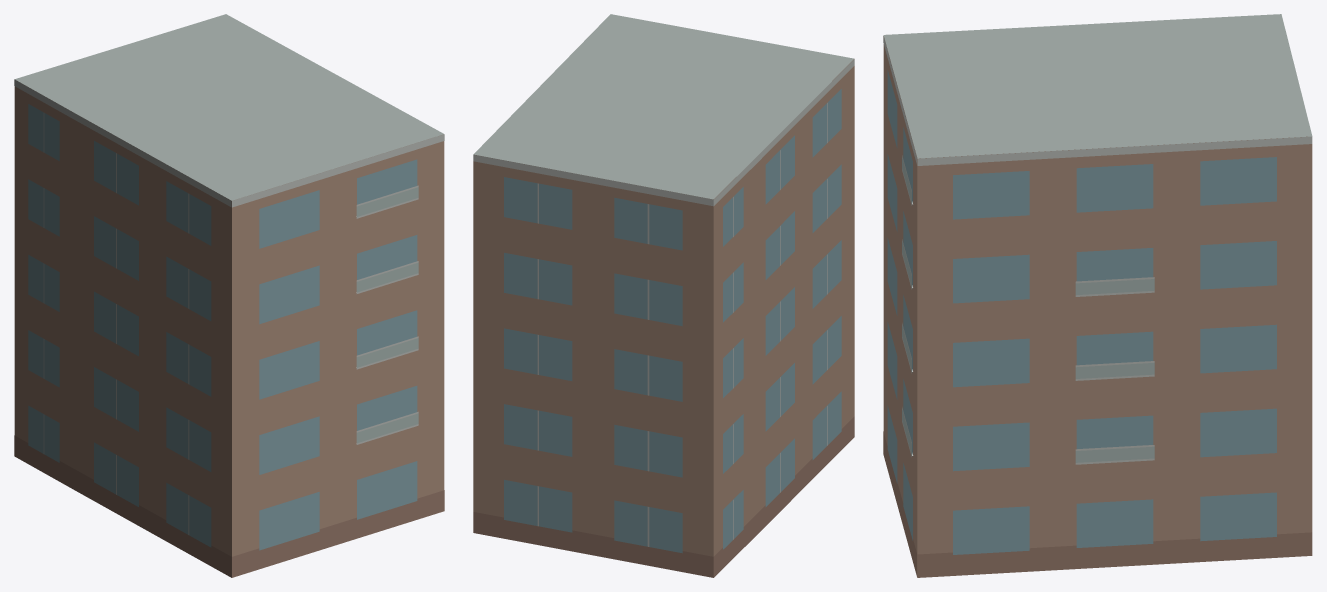
File: survey-upis-32948662.glb
3 views of the same model, side by side, from view 1: azimuth 30°, elevation 25°; view 2: azimuth 150°, elevation 25°; view 3: azimuth 270°, elevation 25° (orthographic). The views are drawn at different scales.
Parts seen in each view (by area): view 1: survey-upis-32948662.tmp; view 2: survey-upis-32948662.tmp; view 3: survey-upis-32948662.tmp.
Part boxes in pixels (bbox=[...]): survey-upis-32948662.tmp: bbox=[14, 14, 444, 577]; survey-upis-32948662.tmp: bbox=[473, 14, 854, 577]; survey-upis-32948662.tmp: bbox=[883, 14, 1312, 577].
Bounding box in the file's own units: 10.03 × 13.55 × 12.57.
